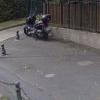Motorcycle: (18, 11, 57, 42)
